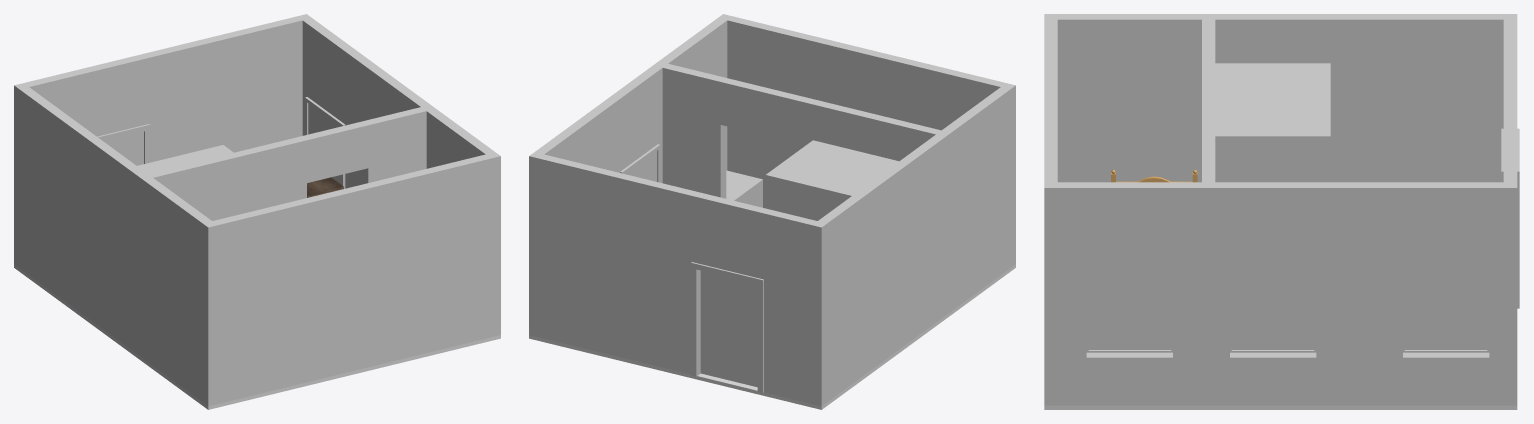
File: KOLOBOK_1var_withoutlight.fbx
The picture shows the model from 3 angles, left to right: view 1: azimuth 30°, elevation 25°; view 2: azimuth 150°, elevation 25°; view 3: azimuth 270°, elevation 25°; orthographic projection. The views are drawn at different scales.
Visible parts, largest first — view 1: Базовая стена Сущ_Несущая_140 [1140288], Базовая стена Сущ_Несущая_140 [1140289], Базовая стена Сущ_Несущая_140 [1140286], Базовая стена Сущ_Несущая_140 [1145678], Базовая стена Сущ_Несущая_140 [1140287], Cube, Одиночные-Щитовые 90 х 150 [1140290], Ок_Окно с рулонной шторой Ок_О_f518c20, МЕ_Куб 00 [1140292], Cube.002; view 2: Базовая стена Сущ_Несущая_140 [1140286], Базовая стена Сущ_Несущая_140 [1140289], Базовая стена Сущ_Несущая_140 [1140288], Базовая стена Сущ_Несущая_140 [1145678], Базовая стена Сущ_Несущая_140 [1140287], Одиночные-Щитовые 90 х 150 [1140290], МЕ_Куб 00 [1140292], Cube, МЕ_Куб 00 [1141322], Ок_Окно с рулонной шторой Ок_О_75a3bd9; view 3: Базовая стена Сущ_Несущая_140 [1140287], Базовая стена Сущ_Несущая_140 [1140289], МЕ_Куб 00 [1140292], Ок_Окно с рулонной шторой Ок_О_75a3bd9, Ок_Окно с рулонной шторой Ок_О_f518c20, Ок_Окно с рулонной шторой Ок_О_cbd89a5, Базовая стена Сущ_Несущая_140 [1140286], Cube, Базовая стена Сущ_Несущая_140 [1140288], Базовая стена Сущ_Несущая_140 [1145678], Одиночные-Щитовые 90 х 150 [1140290].
Part boxes in pixels (x1=…): Базовая стена Сущ_Несущая_140 [1140288]: x1=202, y1=154, x2=491, y2=406; Базовая стена Сущ_Несущая_140 [1140289]: x1=19, y1=87, x2=211, y2=401; Базовая стена Сущ_Несущая_140 [1140286]: x1=14, y1=14, x2=311, y2=267; Базовая стена Сущ_Несущая_140 [1145678]: x1=148, y1=107, x2=426, y2=220; Базовая стена Сущ_Несущая_140 [1140287]: x1=302, y1=18, x2=500, y2=337; Cube: x1=14, y1=264, x2=500, y2=409; Одиночные-Щитовые 90 х 150 [1140290]: x1=97, y1=124, x2=150, y2=165; Ок_Окно с рулонной шторой Ок_О_f518c20: x1=305, y1=95, x2=345, y2=188; МЕ_Куб 00 [1140292]: x1=137, y1=145, x2=233, y2=173; Cube.002: x1=307, y1=177, x2=343, y2=197; Базовая стена Сущ_Несущая_140 [1140286]: x1=529, y1=152, x2=827, y2=406; Базовая стена Сущ_Несущая_140 [1140289]: x1=818, y1=87, x2=1010, y2=401; Базовая стена Сущ_Несущая_140 [1140288]: x1=727, y1=16, x2=1015, y2=267; Базовая стена Сущ_Несущая_140 [1145678]: x1=662, y1=63, x2=941, y2=198; Базовая стена Сущ_Несущая_140 [1140287]: x1=535, y1=14, x2=732, y2=183; Одиночные-Щитовые 90 х 150 [1140290]: x1=691, y1=262, x2=763, y2=392; МЕ_Куб 00 [1140292]: x1=765, y1=140, x2=898, y2=220; Cube: x1=529, y1=264, x2=1015, y2=409; МЕ_Куб 00 [1141322]: x1=726, y1=170, x2=762, y2=207; Ок_Окно с рулонной шторой Ок_О_75a3bd9: x1=619, y1=142, x2=660, y2=182; Базовая стена Сущ_Несущая_140 [1140287]: x1=1044, y1=182, x2=1503, y2=405; Базовая стена Сущ_Несущая_140 [1140289]: x1=1057, y1=14, x2=1503, y2=182; МЕ_Куб 00 [1140292]: x1=1215, y1=63, x2=1330, y2=182; Ок_Окно с рулонной шторой Ок_О_75a3bd9: x1=1225, y1=275, x2=1321, y2=361; Ок_Окно с рулонной шторой Ок_О_f518c20: x1=1398, y1=275, x2=1494, y2=361; Ок_Окно с рулонной шторой Ок_О_cbd89a5: x1=1081, y1=275, x2=1177, y2=361; Базовая стена Сущ_Несущая_140 [1140286]: x1=1503, y1=14, x2=1517, y2=405; Cube: x1=1044, y1=405, x2=1517, y2=409; Базовая стена Сущ_Несущая_140 [1140288]: x1=1044, y1=14, x2=1057, y2=182; Базовая стена Сущ_Несущая_140 [1145678]: x1=1202, y1=19, x2=1215, y2=182; Одиночные-Щитовые 90 х 150 [1140290]: x1=1501, y1=128, x2=1519, y2=308.
Size of the model in its own units: 428 by 255 by 495.
6 materials, 2 textured.
